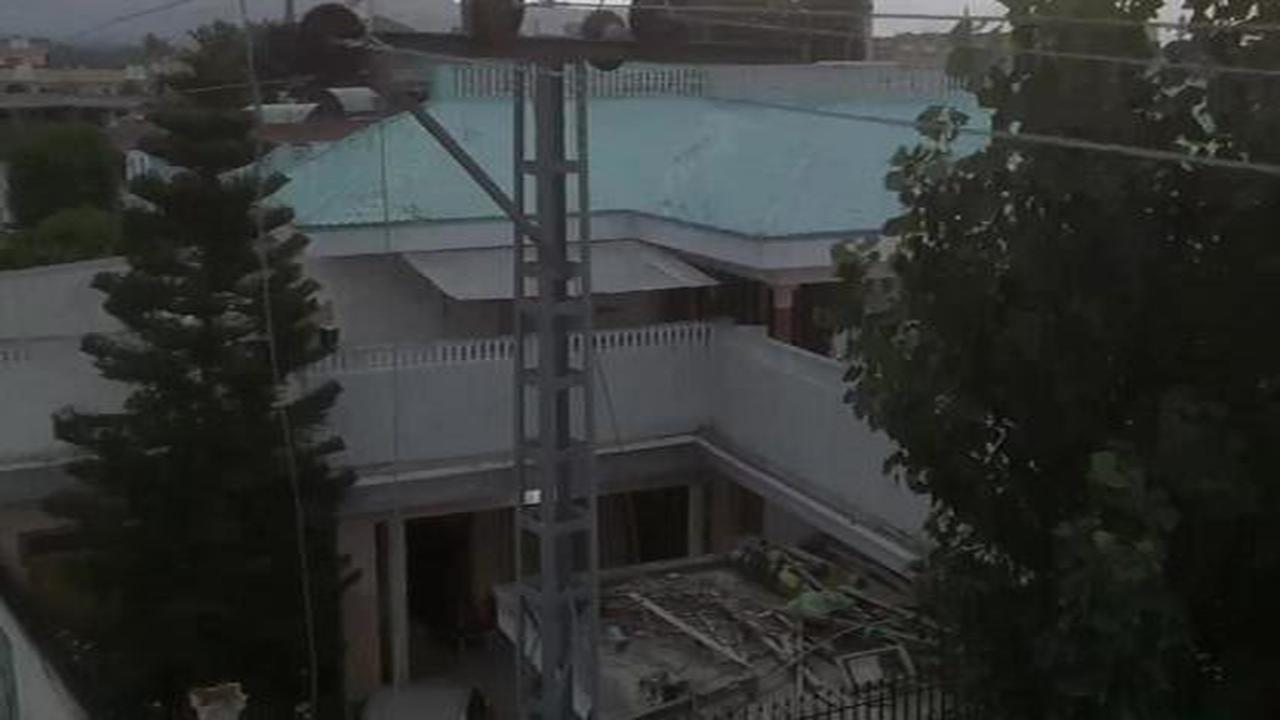insulator_disc: (292, 9, 375, 86), (584, 11, 629, 73)
